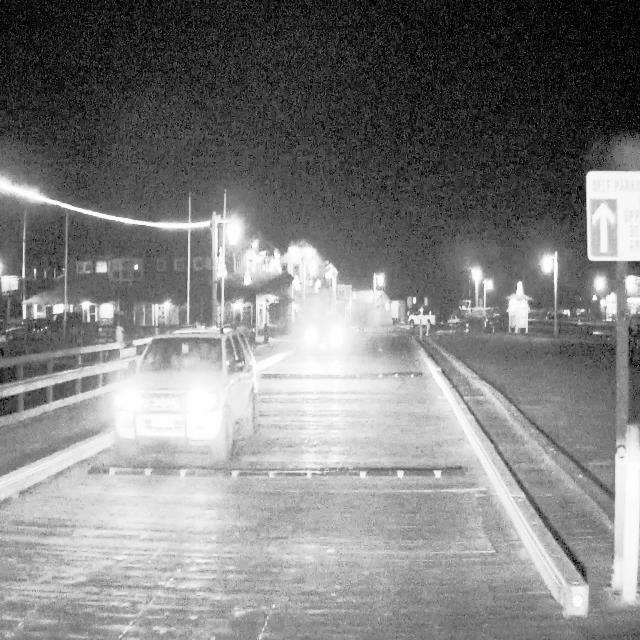Car: (106, 325, 254, 461)
Sign: (587, 170, 640, 261)
